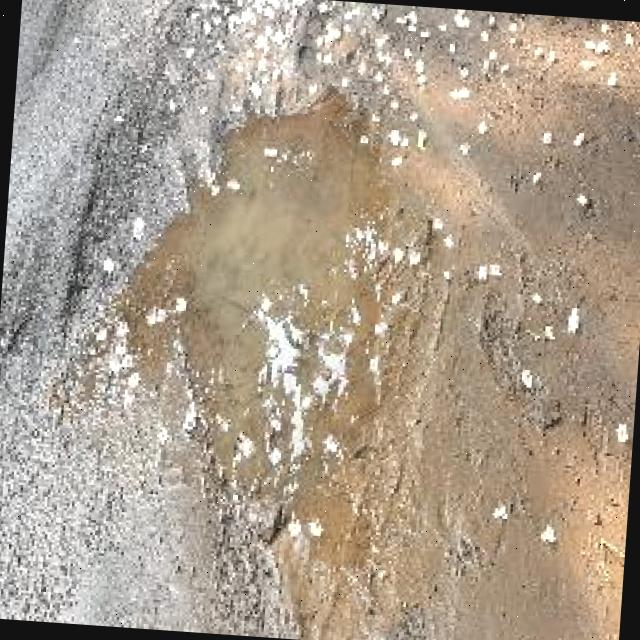waterlogging: (71, 42, 432, 586)
